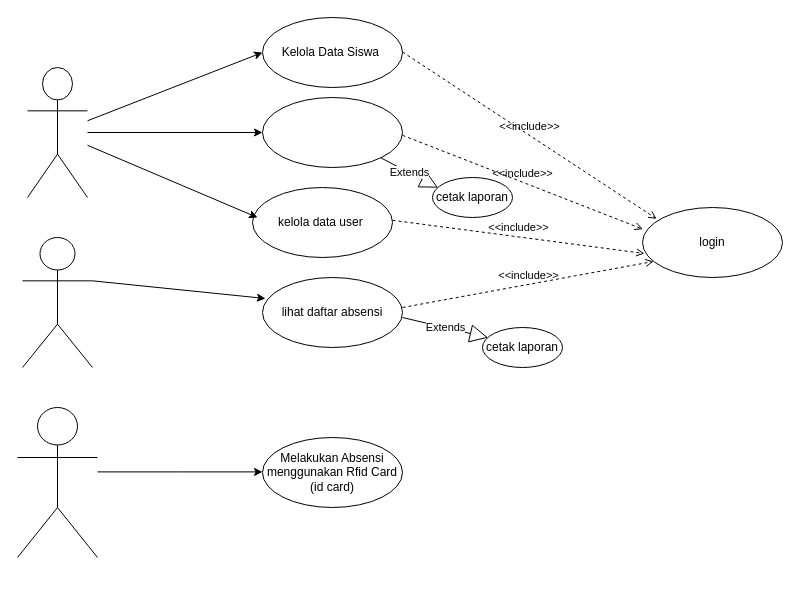
Image size: 800x596. Some labels were removed from this diagram. Here are the shapes that lost their labels. From the top down, the centre of each, then its label:
pixel 57 132: Administrator
pixel 332 132: Kelola data kehadiran siswa
pixel 57 302: Guru
pixel 57 482: Siswa
